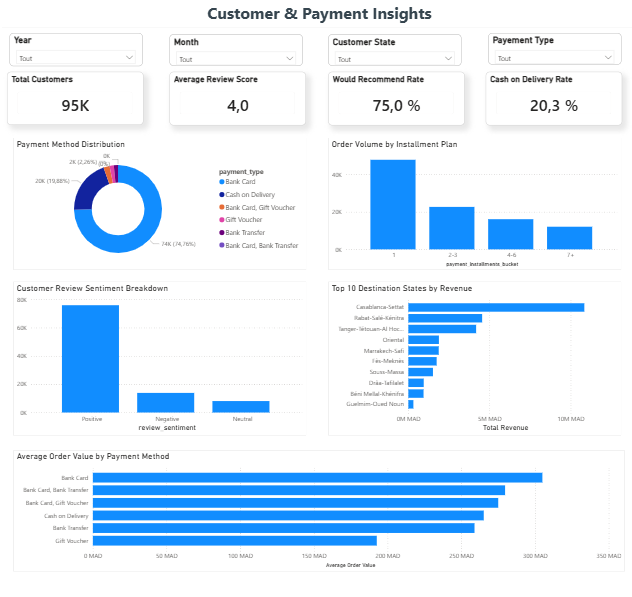

This screenshot's page, from the dashboard's own definition file:
{"tool":"powerbi","page":{"name":"Customer & Payment Insights","canvas":[1280,1200],"ordinal":2},"visuals":[{"type":"textbox","box":[10,0,1270,58],"z":0},{"type":"slicer","title":"Year","fields":{"Values":["chrily vw_sales.year"]},"box":[25,71,266,66],"z":1000},{"type":"slicer","title":"Month","fields":{"Values":["chrily vw_sales.month_name"]},"box":[345,71.7,266.7,63.3],"z":2000},{"type":"slicer","title":"Customer State","fields":{"Values":["chrily vw_sales.customer_state"]},"box":[663.3,71.7,266.7,63.3],"z":3000},{"type":"slicer","title":"Payement Type","fields":{"Values":["chrily vw_sales.payment_type"]},"box":[983.3,71,266,63.3],"z":4000},{"type":"donutChart","title":"Payment Method Distribution","fields":{"Category":["chrily vw_sales.payment_type"],"Y":["Measures (2).Total Orders"]},"box":[31.4,280,585.7,264.3],"z":4001},{"type":"clusteredColumnChart","title":"Order Volume by Installment Plan","fields":{"Category":["chrily vw_sales.payment_installments_bucket"],"Y":["Measures (2).Total Orders"]},"box":[662.9,280,585.7,264.3],"z":4002},{"type":"clusteredColumnChart","title":"Customer Review Sentiment Breakdown","fields":{"Category":["chrily vw_sales.review_sentiment"],"Y":["Measures (2).Total Orders"]},"box":[31.4,568.6,585.7,307.1],"z":4003},{"type":"clusteredBarChart","title":"Top 10 Destination States by Revenue","fields":{"Category":["chrily vw_sales.customer_state"],"Y":["Measures (2).Total Revenue"]},"box":[662.9,568.6,585.7,307.1],"z":4004},{"type":"clusteredBarChart","title":"Average Order Value by Payment Method","fields":{"Category":["chrily vw_sales.payment_type"],"Y":["Measures (2).Average Order Value"]},"box":[31.4,904.3,1222.9,241.4],"z":4005},{"type":"cardVisual","title":"Total Customers","fields":{"Data":["Measures (2).Total Customers"]},"box":[20,147.5,272.5,106.2],"z":4006},{"type":"cardVisual","title":"Average Review Score","fields":{"Data":["Measures (2).Average Review Score"]},"box":[344.3,147.1,272.9,107.1],"z":4007},{"type":"cardVisual","title":"Would Recommend Rate","fields":{"Data":["Measures (2).Recommend Rate"]},"box":[662.9,148.6,272.9,107.1],"z":4008},{"type":"cardVisual","title":"Cash on Delivery Rate","fields":{"Data":["Measures (2).COD Rate"]},"box":[978.6,148.6,272.9,107.1],"z":4009}]}

Visuals, with their boxes in screenshot pixels (x1, y1, x2, y2), scaled from the page's 1280x1200 canvas onto the 632x597 screenshot:
textbox: [x1=5, y1=0, x2=631, y2=29]
"Year" slicer: [x1=12, y1=35, x2=144, y2=68]
"Month" slicer: [x1=170, y1=36, x2=302, y2=67]
"Customer State" slicer: [x1=328, y1=36, x2=459, y2=67]
"Payement Type" slicer: [x1=486, y1=35, x2=617, y2=67]
"Payment Method Distribution" donutChart: [x1=16, y1=139, x2=305, y2=271]
"Order Volume by Installment Plan" clusteredColumnChart: [x1=327, y1=139, x2=616, y2=271]
"Customer Review Sentiment Breakdown" clusteredColumnChart: [x1=16, y1=283, x2=305, y2=436]
"Top 10 Destination States by Revenue" clusteredBarChart: [x1=327, y1=283, x2=616, y2=436]
"Average Order Value by Payment Method" clusteredBarChart: [x1=16, y1=450, x2=619, y2=570]
"Total Customers" cardVisual: [x1=10, y1=73, x2=144, y2=126]
"Average Review Score" cardVisual: [x1=170, y1=73, x2=305, y2=126]
"Would Recommend Rate" cardVisual: [x1=327, y1=74, x2=462, y2=127]
"Cash on Delivery Rate" cardVisual: [x1=483, y1=74, x2=618, y2=127]
